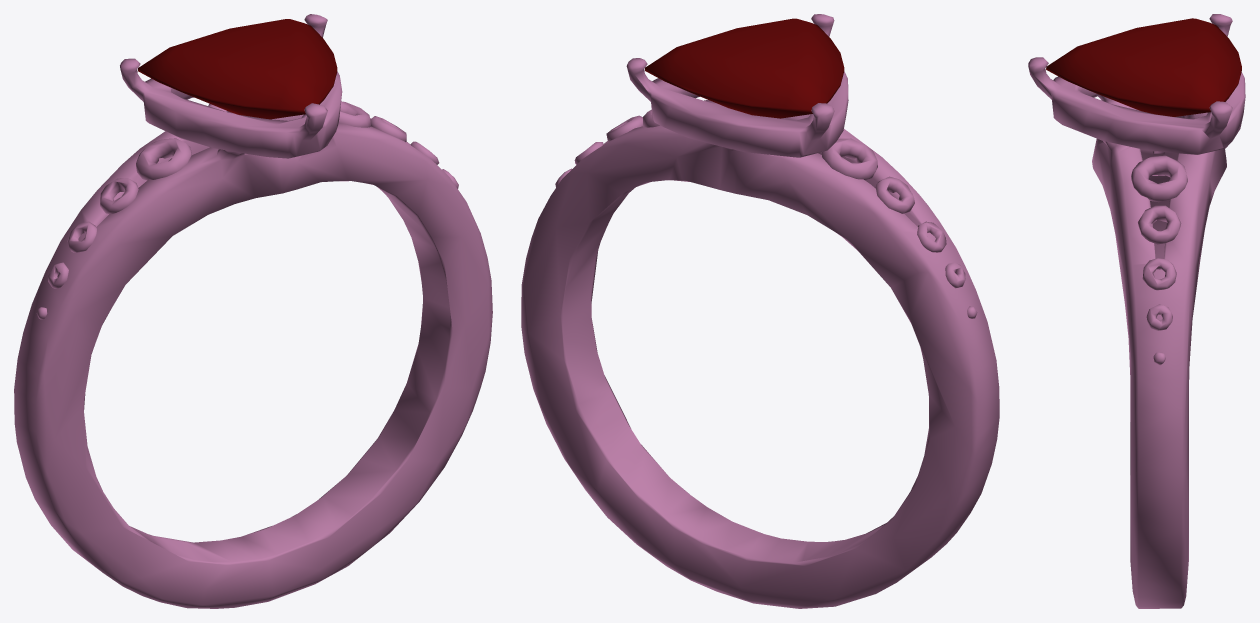
File: ring_red.obj
The picture shows the model from 3 angles, left to right: view 1: azimuth 30°, elevation 25°; view 2: azimuth 150°, elevation 25°; view 3: azimuth 270°, elevation 25°; orthographic projection.
Parts seen in each view (by area): view 1: ring_red_13456_Ruby_Ring_v1_l3; view 2: ring_red_13456_Ruby_Ring_v1_l3; view 3: ring_red_13456_Ruby_Ring_v1_l3.
Part boxes in pixels (<box>): ring_red_13456_Ruby_Ring_v1_l3: <box>14,14,492,608</box>; ring_red_13456_Ruby_Ring_v1_l3: <box>521,14,999,608</box>; ring_red_13456_Ruby_Ring_v1_l3: <box>1028,14,1245,608</box>.
Size of the model in its own units: 0.1697 by 0.1947 by 0.071.
